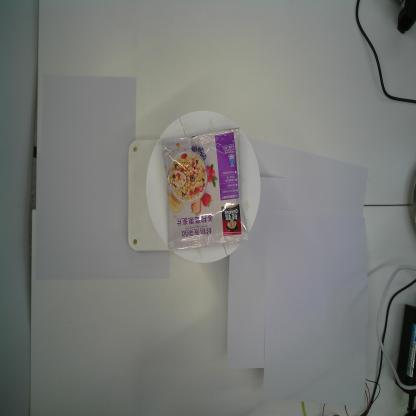Instant Drink: (161, 124, 249, 250)
